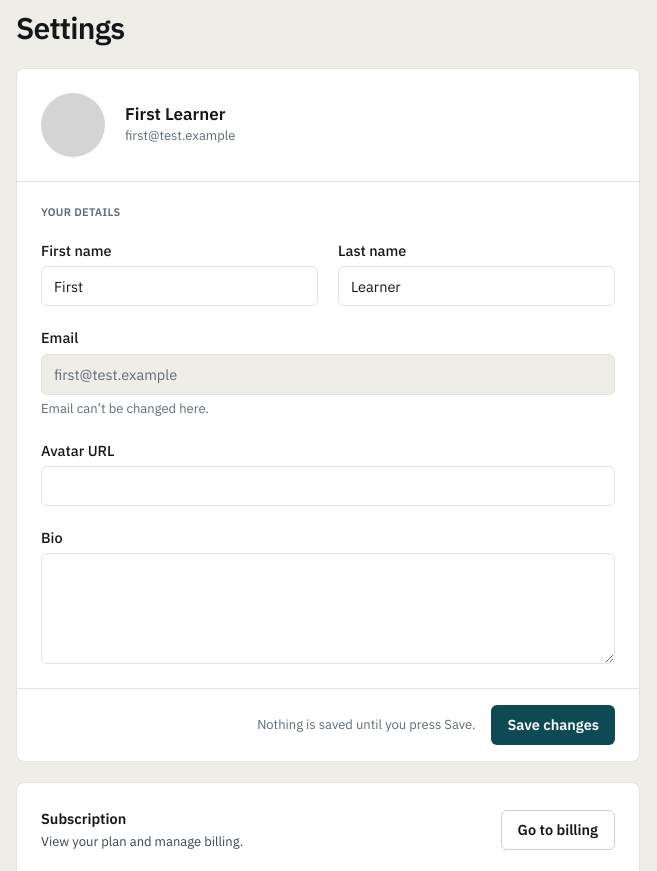
Test case: Settings › surfaces a save error
What coordinates should you click on to do the following:
click the button "Save changes"
I would click on:
 (553, 725)
Its box is x1=491 y1=705 x2=615 y2=745.
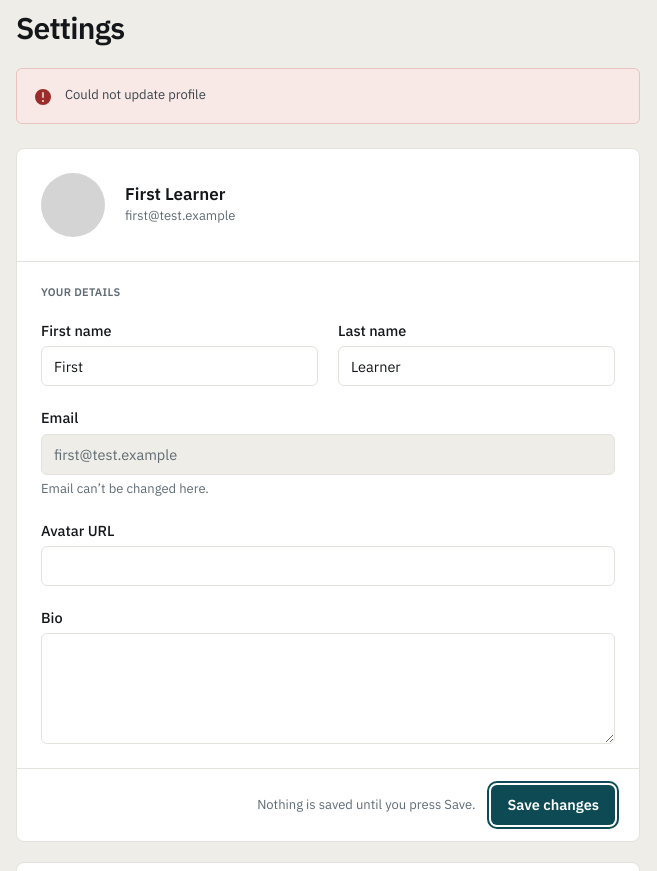
Now the text "Could not update profile" is shown, box x1=65 y1=86 x2=206 y2=103
